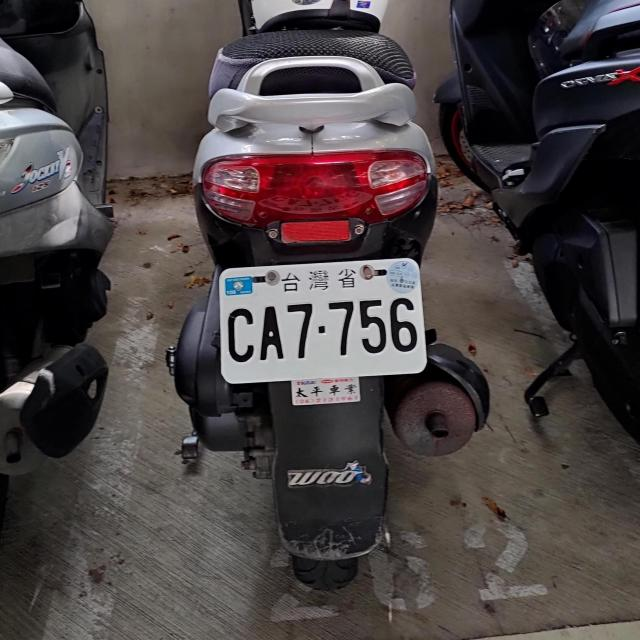W: (218, 257, 427, 384)
